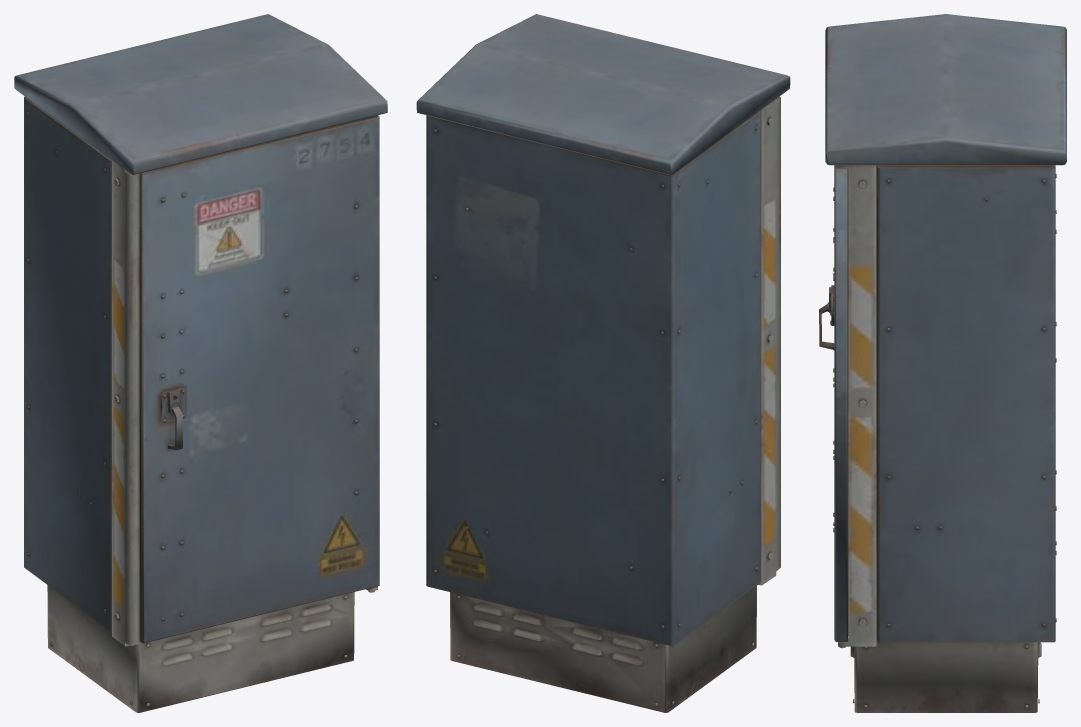
File: utility_box_01.glb
3 views of the same model, side by side, from view 1: azimuth 30°, elevation 25°; view 2: azimuth 150°, elevation 25°; view 3: azimuth 270°, elevation 25° (orthographic).
Parts seen in each view (by area): view 1: utility_box_01_box; view 2: utility_box_01_box; view 3: utility_box_01_box.
Part boxes in pixels (x1,y1,x2,y2): utility_box_01_box: (14,14,387,712); utility_box_01_box: (416,14,790,712); utility_box_01_box: (819,14,1066,712).
Size of the model in its own units: 0.52 by 1.12 by 0.4311.
Materials: 1 (1 with a texture image).
